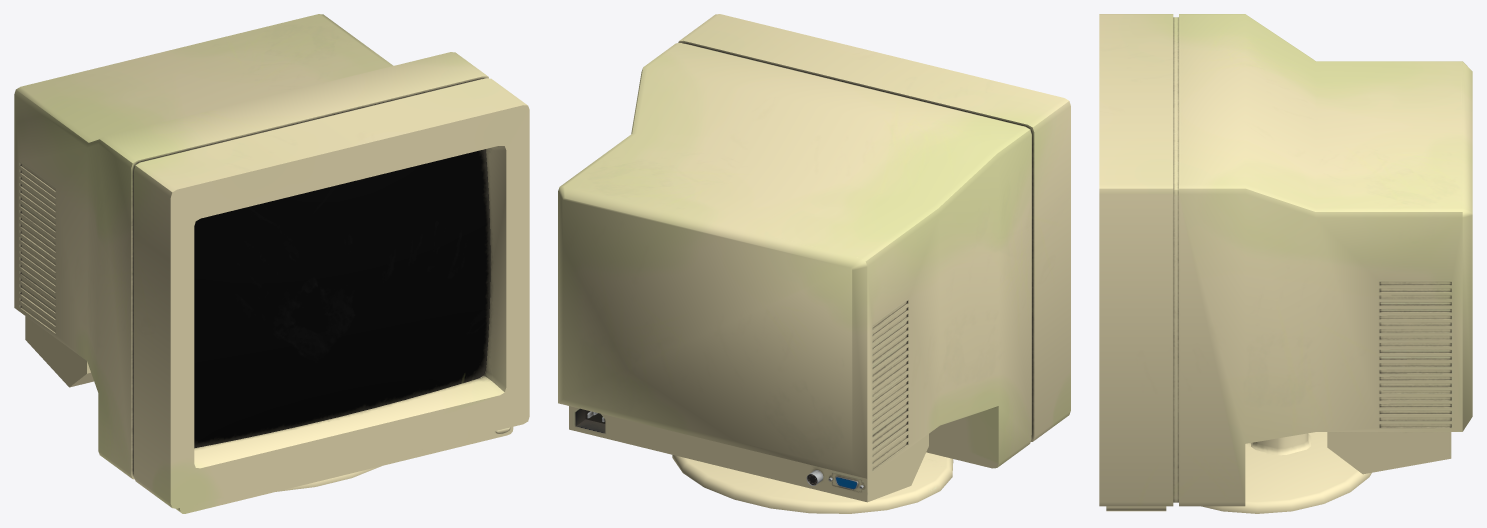
File: monitor_(computer_equipment) computer_monitor_6fb5032d.glb
The picture shows the model from 3 angles, left to right: view 1: azimuth 30°, elevation 25°; view 2: azimuth 150°, elevation 25°; view 3: azimuth 270°, elevation 25°; orthographic projection.
Visible parts, largest first — view 1: Box001; view 2: Box001; view 3: Box001.
Boxes of the visible parts, box(x1,y1,x2,y2) form: Box001: box(14, 14, 529, 513); Box001: box(558, 14, 1070, 513); Box001: box(1099, 14, 1472, 513).
Size of the model in its own units: 83.3 by 77.31 by 74.6.
1 material, 1 textured.
